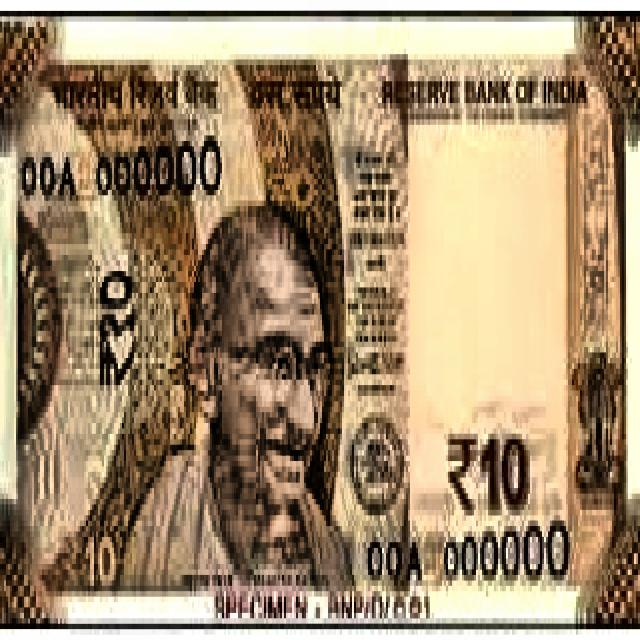-10-: (4, 27, 635, 601)
